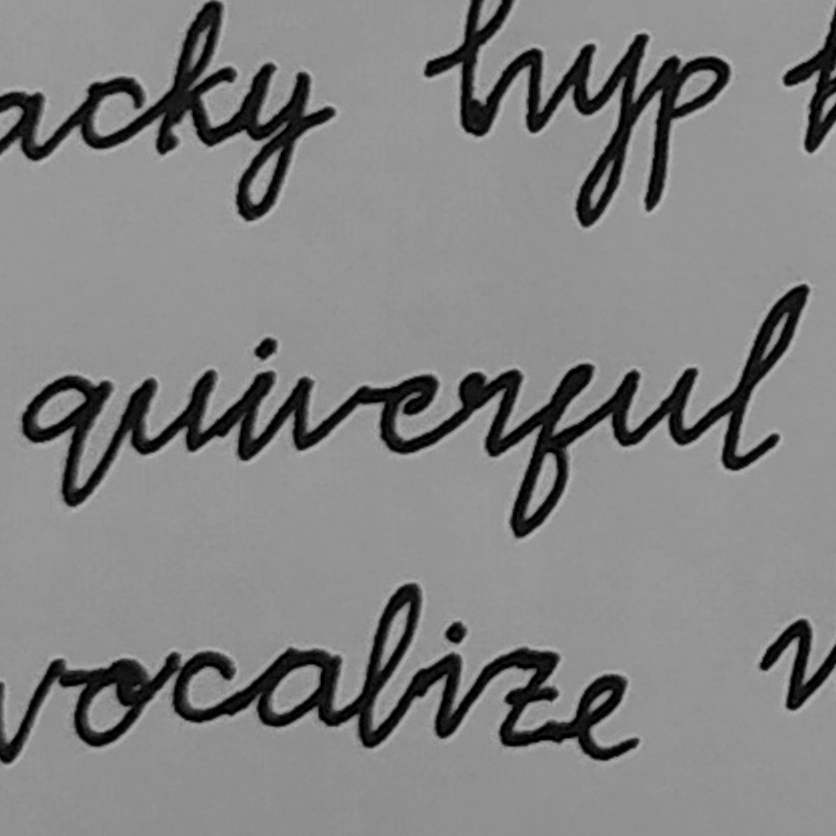e: (376, 367, 446, 458)
f: (505, 357, 600, 540)
i: (228, 329, 285, 467)
l: (717, 279, 812, 476)
q: (20, 370, 114, 512)
r: (451, 361, 528, 460)
u: (122, 362, 223, 462), (606, 359, 702, 455)
v: (289, 369, 373, 458)
